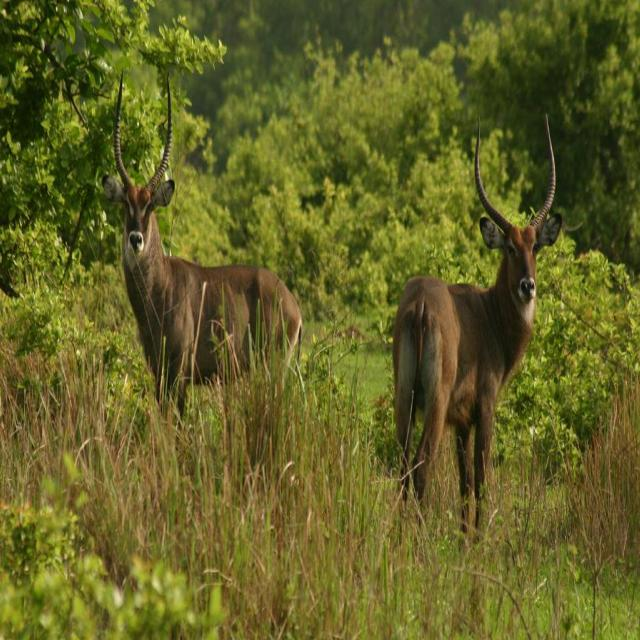Deer: (101, 68, 302, 451), (394, 113, 564, 548)
